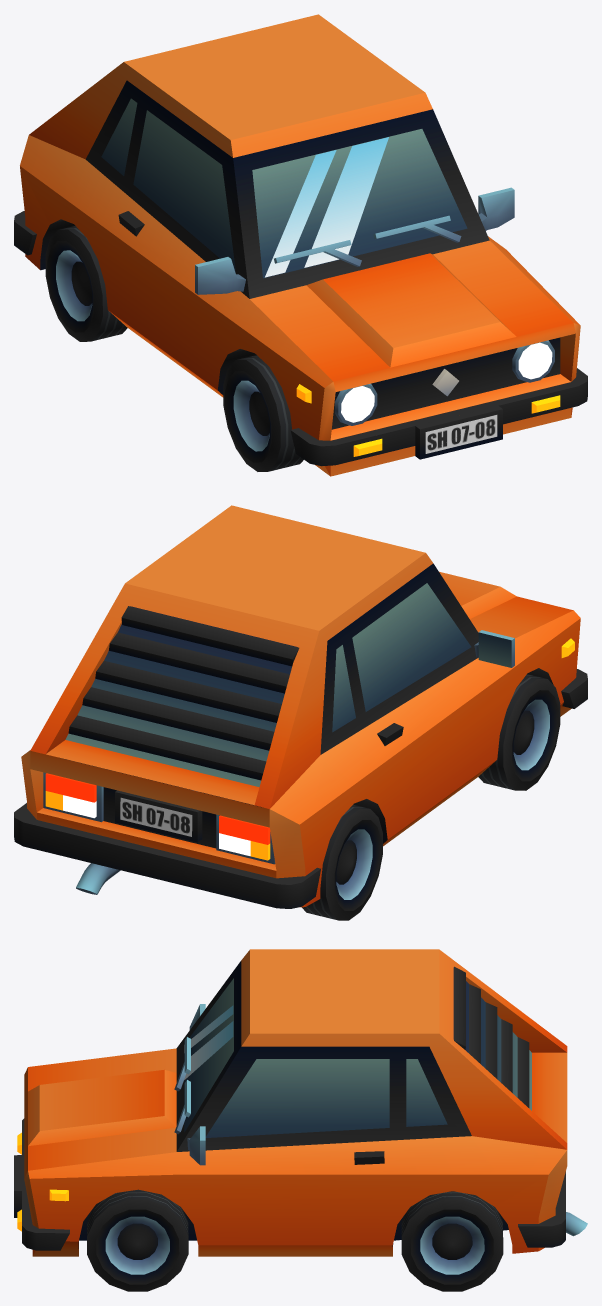
File: car.Car-02.glb
The picture shows the model from 3 angles, top to bottom: view 1: azimuth 30°, elevation 25°; view 2: azimuth 150°, elevation 25°; view 3: azimuth 270°, elevation 25°; orthographic projection. The views are drawn at different scales.
Visible parts, largest first — view 1: car.Car 02; view 2: car.Car 02; view 3: car.Car 02.
Boxes of the visible parts, x1=… form: car.Car 02: x1=14, y1=14, x2=587, y2=476; car.Car 02: x1=14, y1=505, x2=587, y2=920; car.Car 02: x1=14, y1=949, x2=587, y2=1291.
Size of the model in its own units: 2.27 by 1.85 by 4.02.
Materials: 2 (2 with a texture image).
